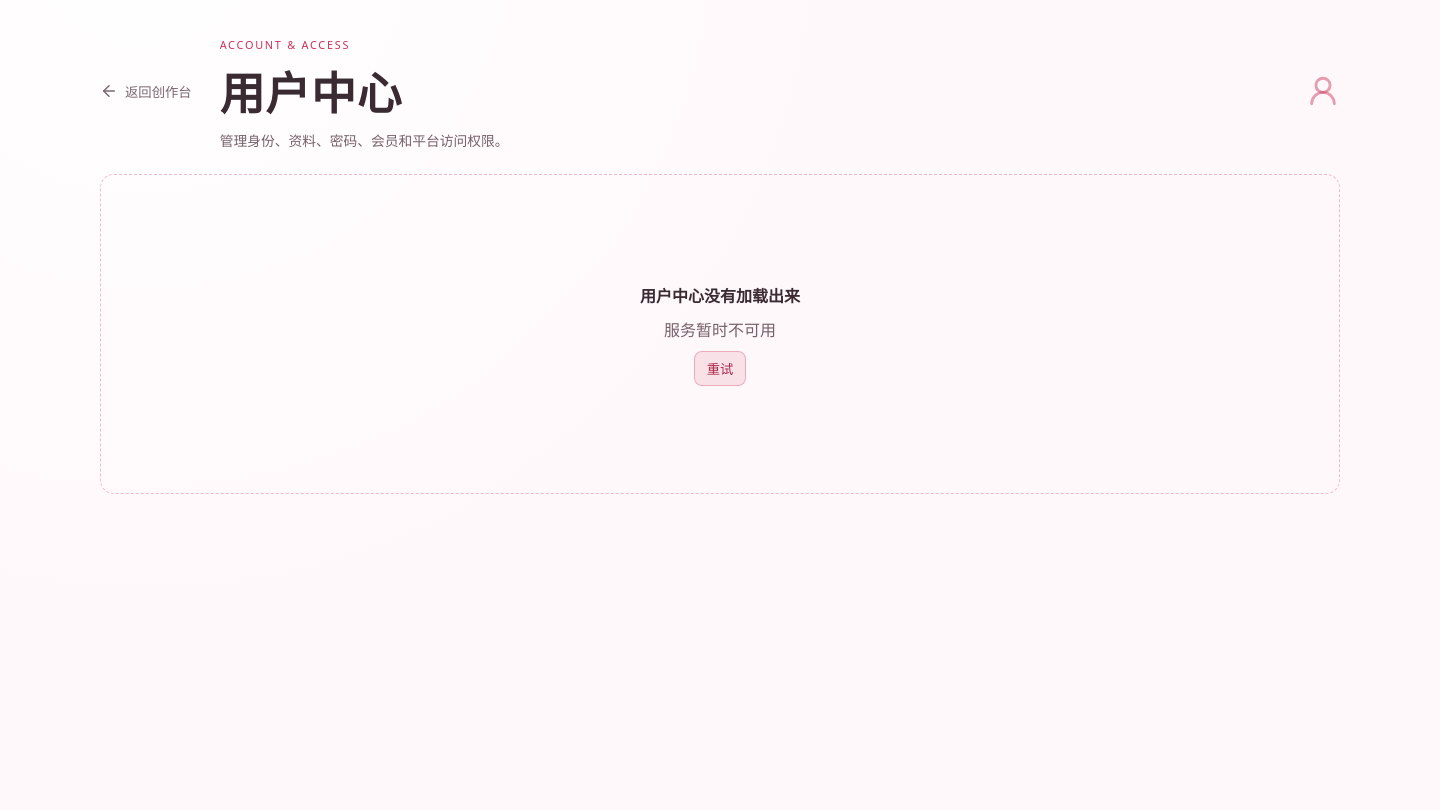
Test case: UserCenterPage › offers a way back and a retry when the page cannot load
Expected: the message shows "服务暂时不可用", [664,318,776,340]
Click the button "返回创作台": (146, 91) [100,82,192,100]
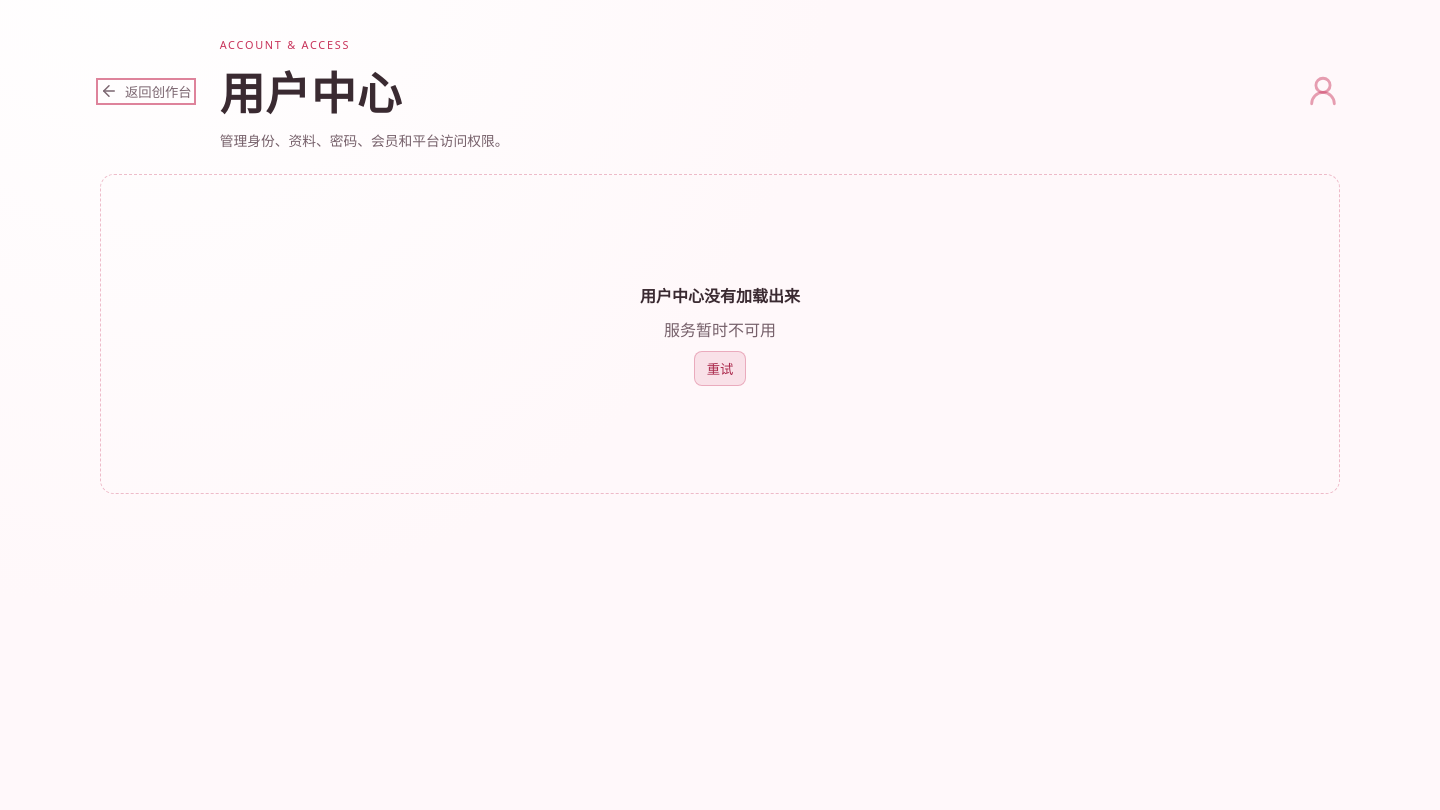
Click the button "重试": (720, 368) [694,350,746,386]
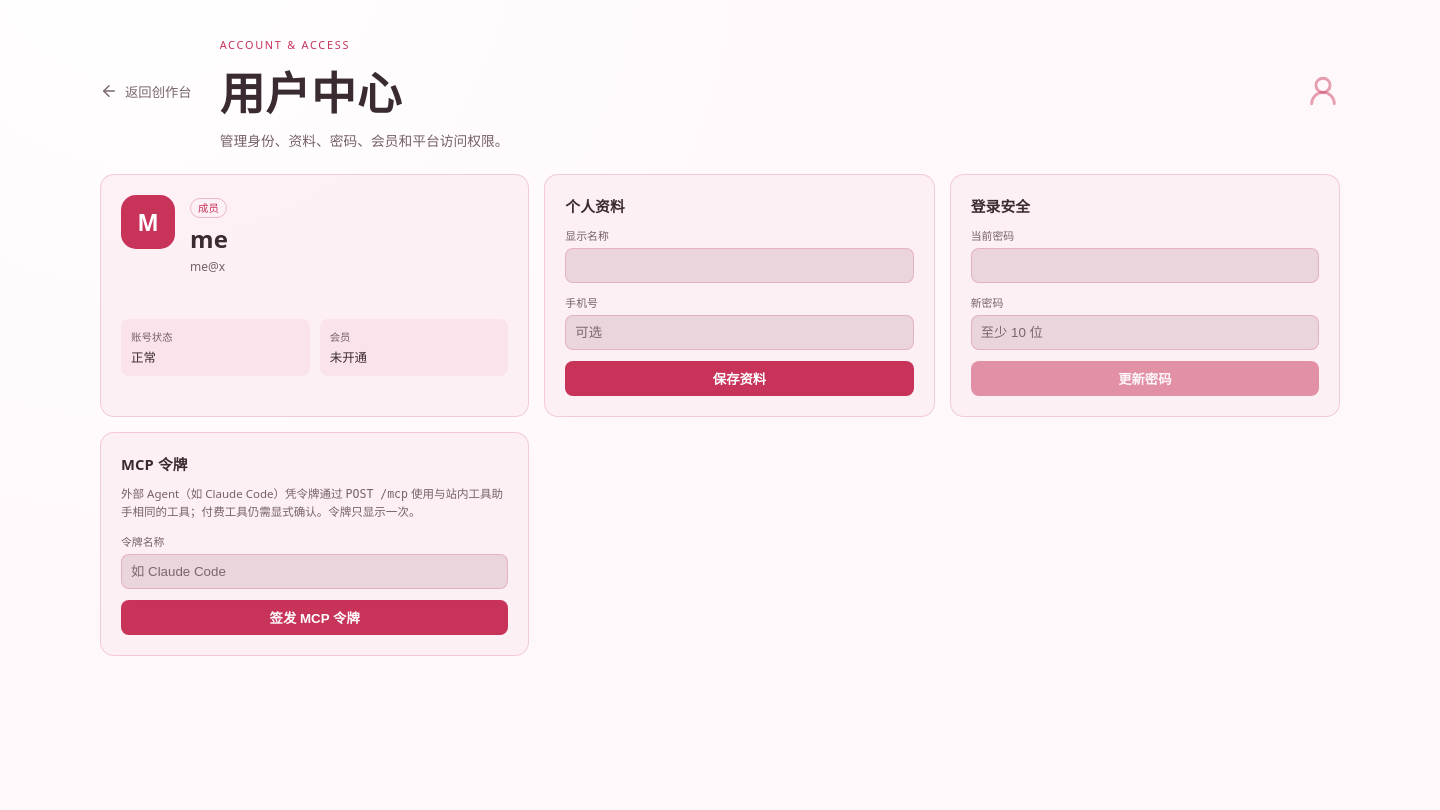
Expected: the text "me@x" is shown, [190,258,225,275]
Expected: the message "用户中心没有加载出来 服务暂时不可用 重试" is gone
